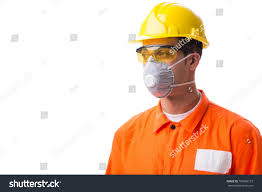Helmet: (133, 5, 205, 43)
Jacket: (112, 113, 255, 179)
Mask: (137, 59, 204, 106)
